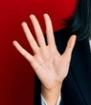down: (12, 13, 78, 89)
